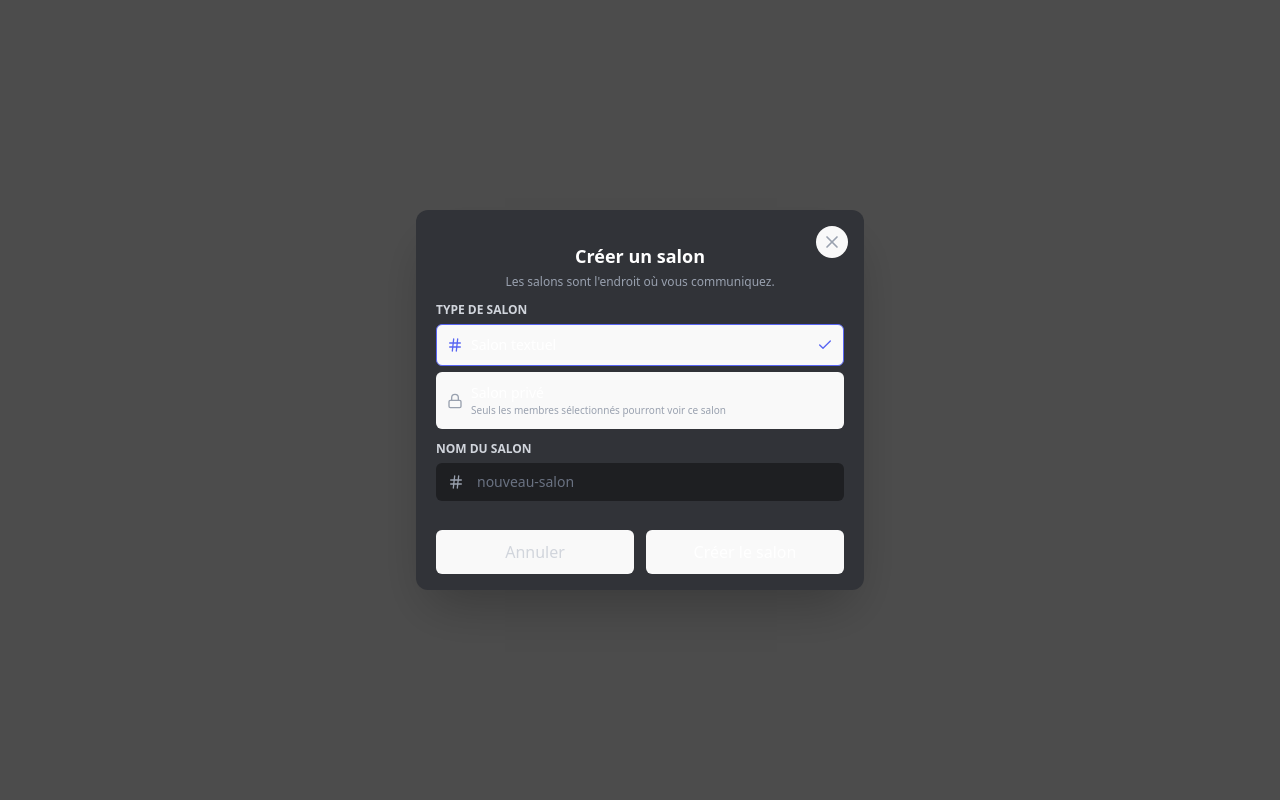
Test: ChannelWizard › formats channel name to lowercase with hyphens
Type "My Channel Name" into the field with placeholder "nouveau-salon" at coordinates (640, 482), box top-left (436, 463), bottom-right (844, 501)
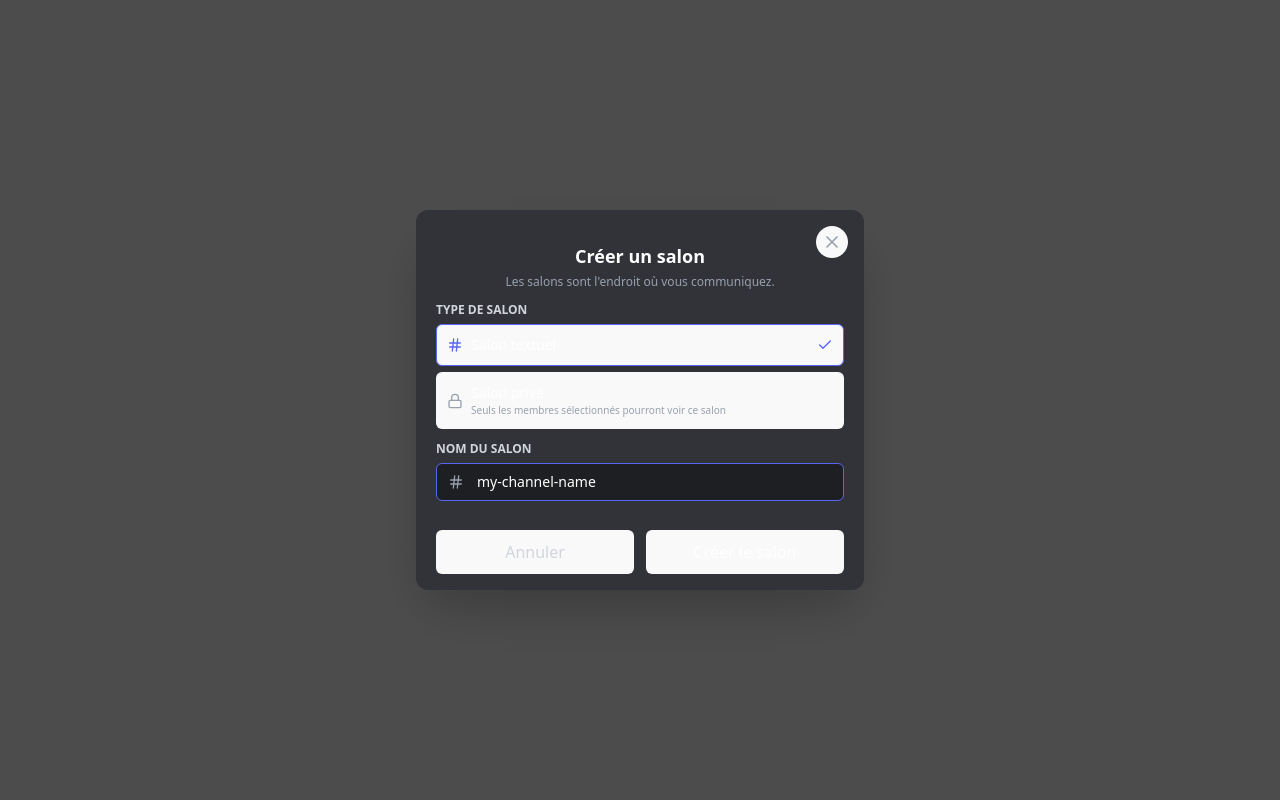
Expected: the field with placeholder "nouveau-salon" holds "my-channel-name", top-left (436, 463), bottom-right (844, 501)
